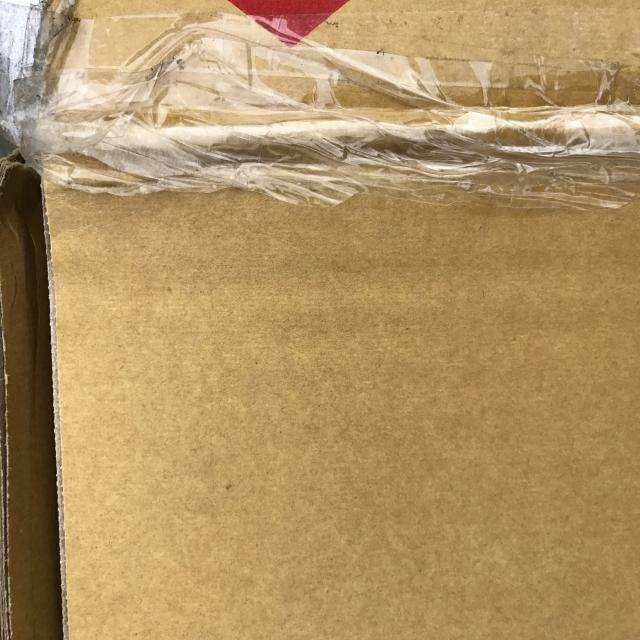cardboard: (8, 1, 639, 638)
